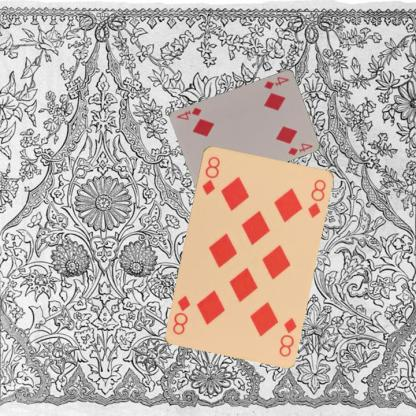4d: (262, 74, 290, 90)
8d: (200, 153, 222, 196), (276, 315, 298, 358)
